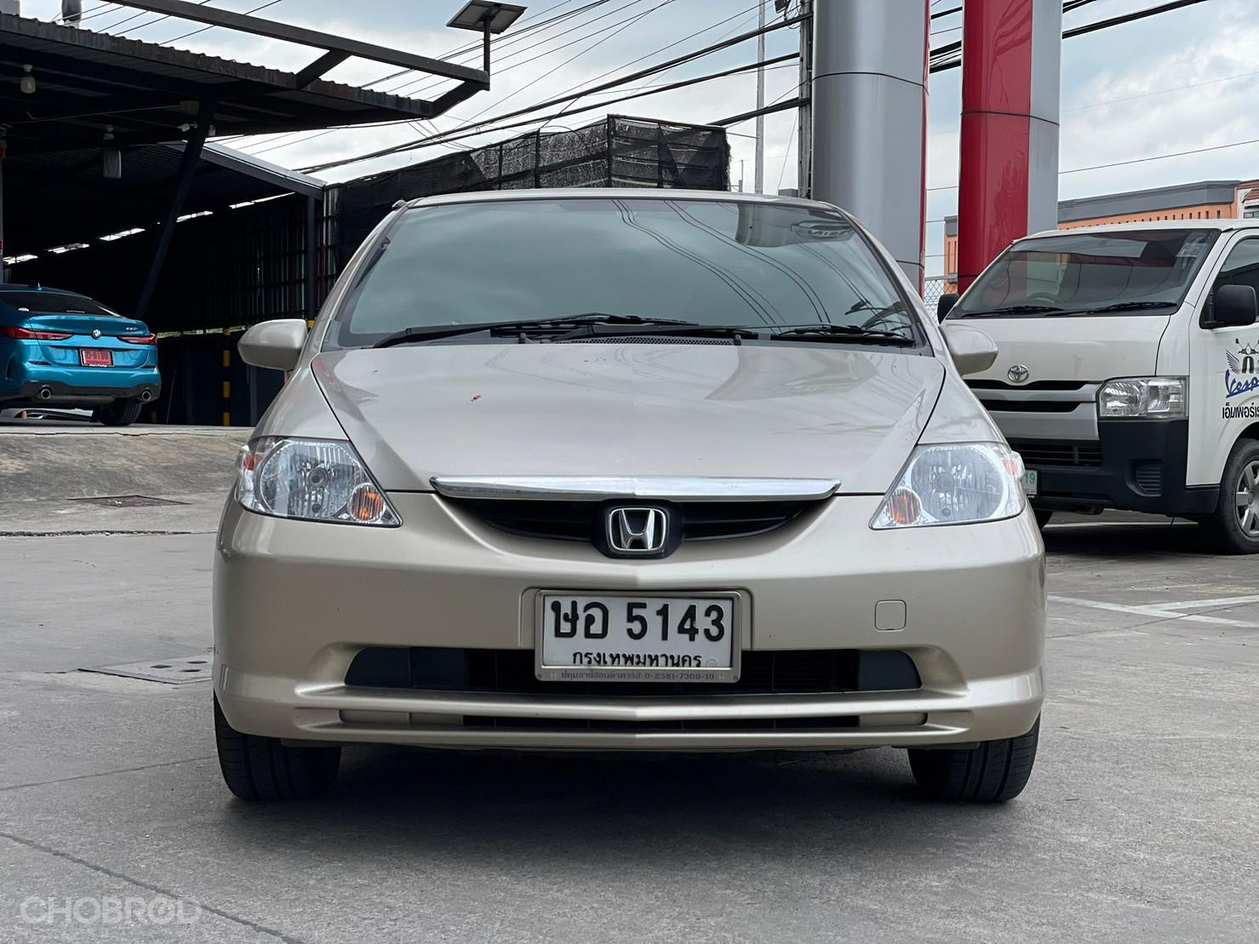license-plate: (530, 576, 746, 694)
